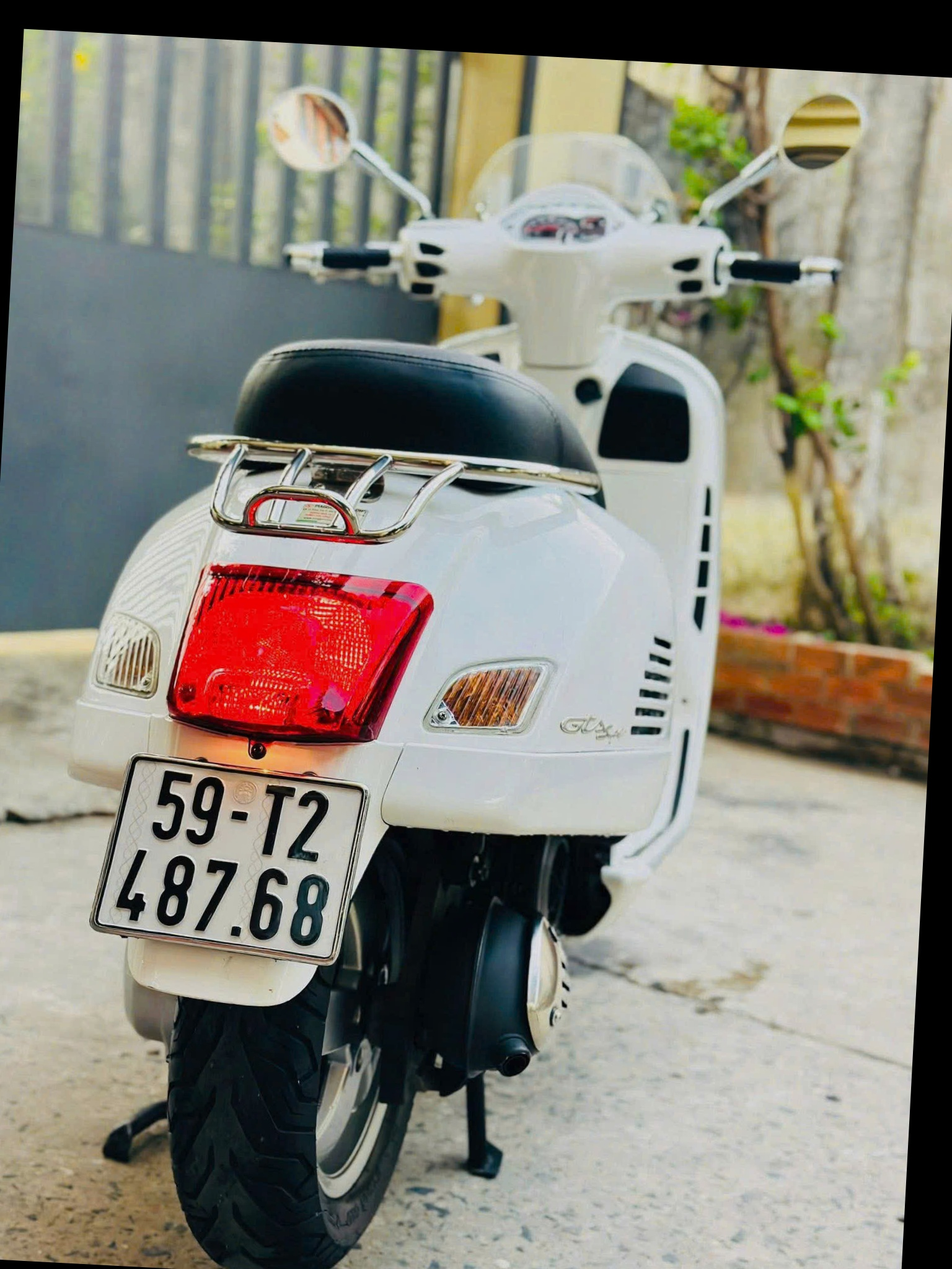Bien-so: (91, 761, 365, 961)
